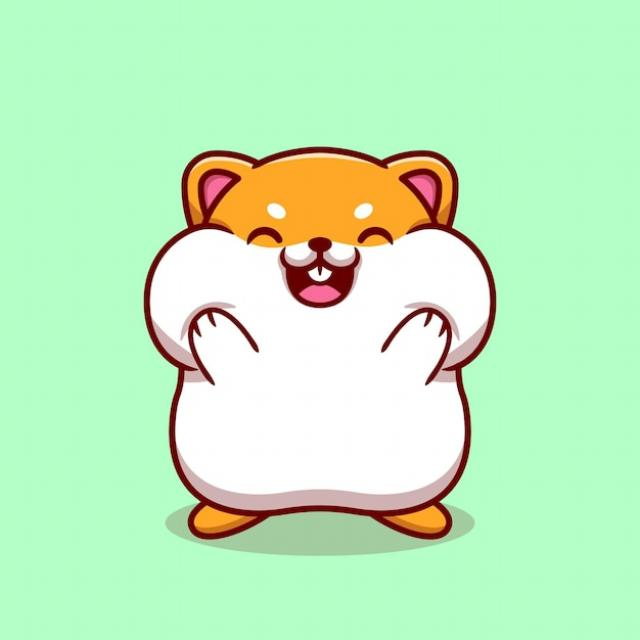hamster: (142, 144, 497, 546)
